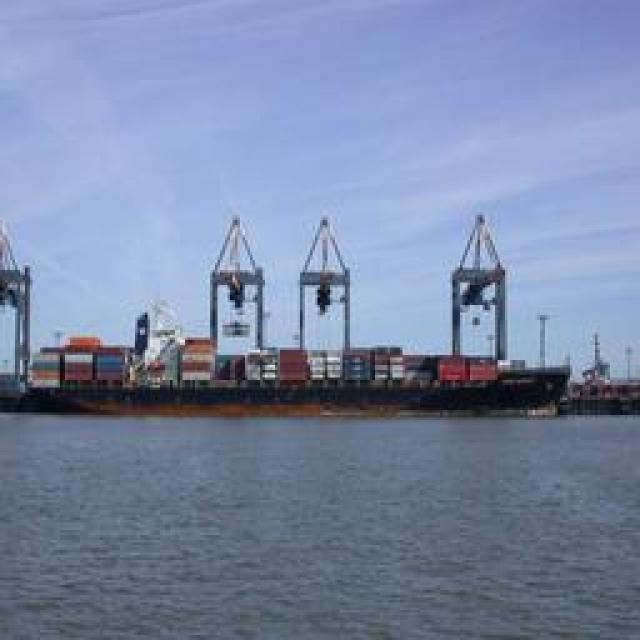CIV_Ship: (4, 209, 578, 419)
